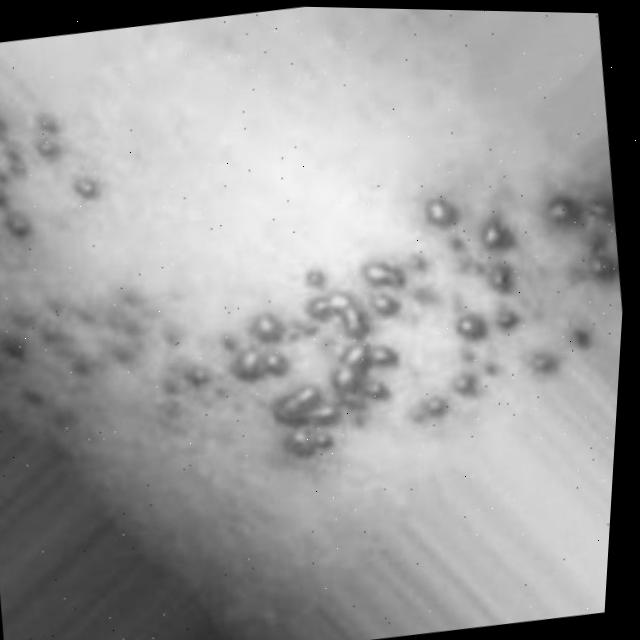Shingles: (201, 161, 631, 486), (0, 270, 241, 459), (0, 100, 111, 251)
